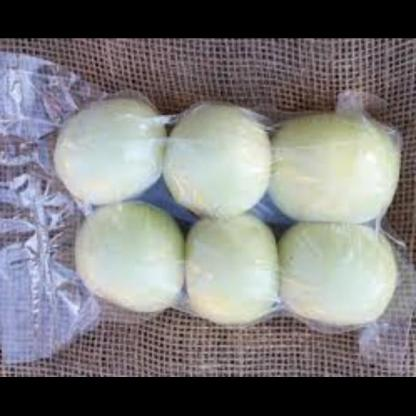onion: (51, 74, 401, 330)
